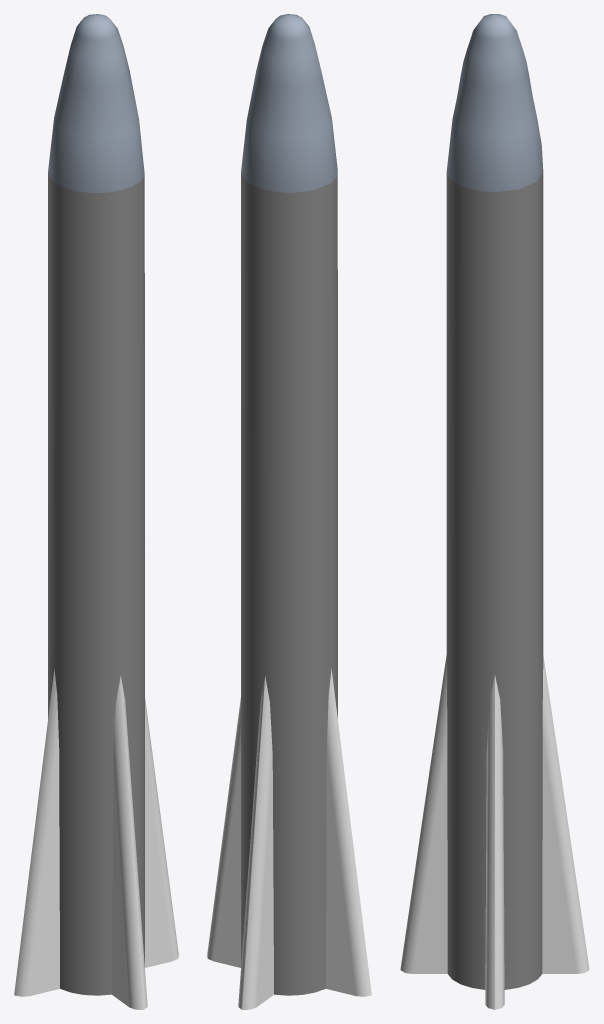
Rendered from icbm_middle.obj.
3 views of the same model, side by side, from view 1: azimuth 30°, elevation 25°; view 2: azimuth 150°, elevation 25°; view 3: azimuth 270°, elevation 25° (orthographic).
Parts seen in each view (by area): view 1: 65, 91, 92, 71, 64, 68, 89, 74, 85, 87, 72, 66 (+4 smaller); view 2: 48, 52, 92, 46, 50, 40, 79, 54, 85, 64, 81, 87 (+28 smaller); view 3: 71, 16, 92, 20, 70, 91, 75, 18, 28, 22, 78, 24 (+17 smaller).
Part boxes in pixels (x1,y1,x2,y2): 65: (59, 188, 111, 995); 91: (54, 186, 132, 866); 92: (54, 14, 144, 192); 71: (127, 175, 144, 966); 64: (14, 669, 59, 996); 68: (112, 676, 147, 1009); 89: (54, 183, 63, 662); 74: (145, 699, 178, 960); 85: (48, 173, 54, 639); 87: (48, 190, 54, 702); 72: (145, 859, 172, 967); 66: (112, 877, 129, 1006); 48: (265, 190, 289, 992); 52: (289, 190, 313, 988); 92: (247, 14, 337, 175); 46: (288, 193, 301, 995); 50: (302, 210, 314, 994); 40: (250, 676, 273, 1006); 79: (247, 183, 265, 673); 54: (313, 194, 325, 992); 85: (313, 183, 331, 658); 64: (326, 669, 371, 996); 81: (247, 185, 265, 760); 87: (313, 192, 331, 859); 71: (447, 178, 485, 989); 16: (495, 189, 528, 987); 92: (446, 14, 541, 190); 20: (519, 182, 536, 983); 70: (405, 655, 447, 973); 91: (446, 172, 517, 987); 75: (480, 191, 499, 697); 18: (529, 183, 537, 983); 28: (542, 737, 584, 973); 22: (537, 228, 542, 978); 78: (474, 134, 536, 191); 24: (542, 855, 576, 973).
Size of the model in its own units: 2937 by 16350 by 2937.
